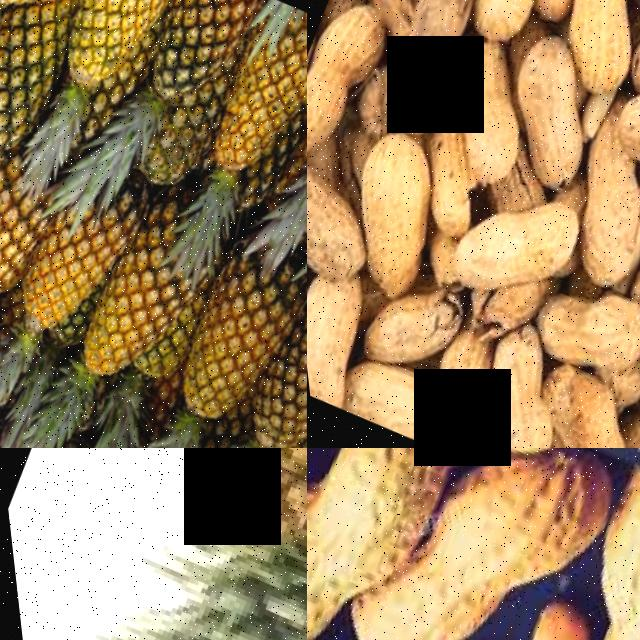peanuts: (397, 448, 638, 639), (307, 448, 490, 618), (353, 0, 501, 145), (531, 477, 640, 640), (307, 0, 402, 183), (519, 269, 640, 396), (546, 158, 640, 298), (430, 197, 543, 311), (493, 28, 598, 139), (434, 88, 533, 196), (307, 152, 382, 292), (444, 373, 566, 448), (307, 267, 374, 396), (528, 0, 640, 61), (591, 84, 640, 187), (610, 318, 640, 447)
pineapple: (109, 448, 307, 640), (132, 252, 306, 448), (163, 0, 307, 234), (36, 258, 174, 429), (16, 0, 176, 142), (106, 0, 255, 149), (205, 285, 307, 448), (0, 219, 112, 364), (269, 37, 307, 216), (0, 189, 38, 351), (0, 0, 93, 38)
